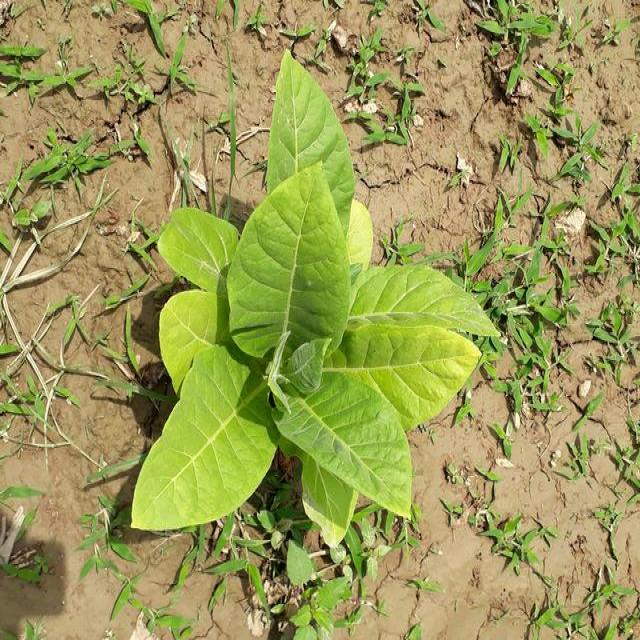crop: (127, 51, 486, 551)
